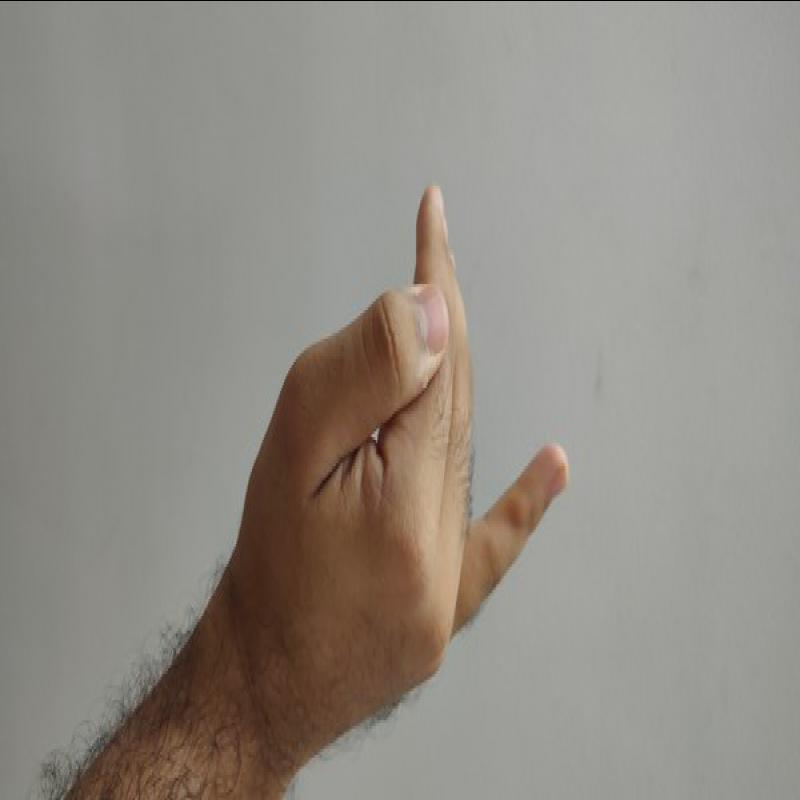Kartharee Mukham: (209, 164, 580, 737)
